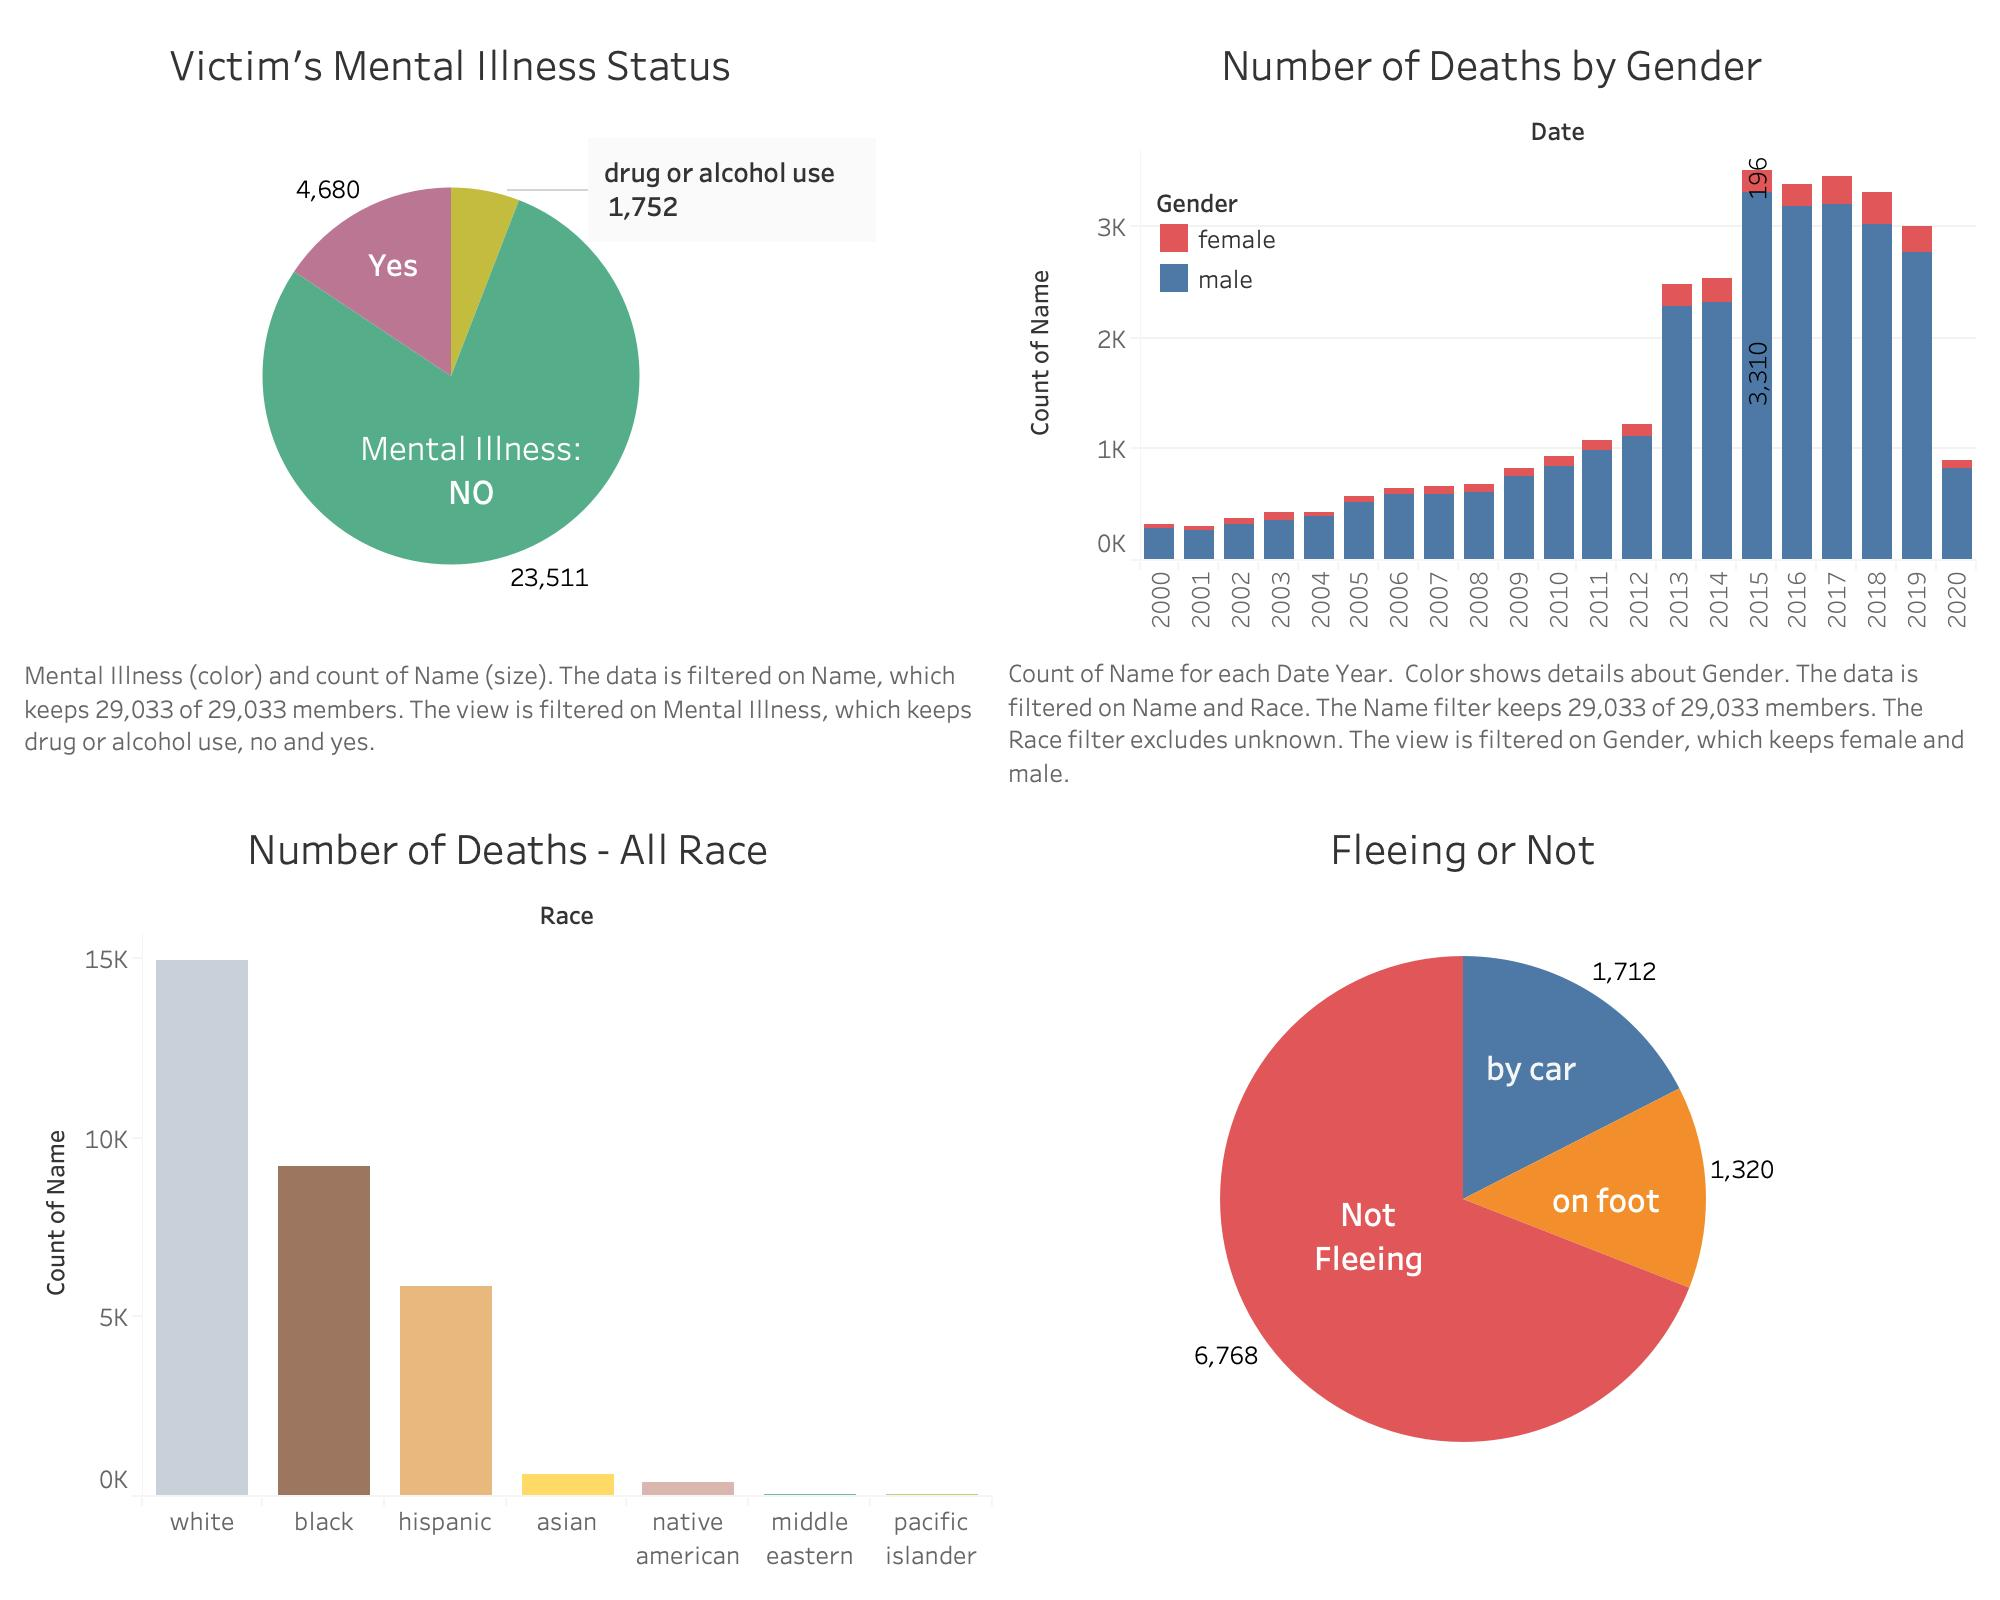

What the dashboard file says about the page in this screenshot:
{"tool":"tableau","page":{"name":"Dashboard 2","canvas":[1000,800],"ordinal":1},"visuals":[{"type":"worksheet","title":"Sheet 5","mark":"Pie","box":[8,8,492,392]},{"type":"worksheet","title":"Sheet 4","mark":"Bar","rows":["name"],"cols":["date"],"box":[500,8,492,392]},{"type":"legend","title":"Sheet 4","param":"[federated.15tnjfx0qnbfkw13dks4l1e908w0].[none:gender:nk]","box":[577,91,140,58]},{"type":"worksheet","title":"Sheet 3","mark":"Automatic","rows":["name"],"cols":["race"],"box":[8,400,492,392]},{"type":"worksheet","title":"Sheet 2","mark":"Pie","box":[500,400,492,392]}]}

Visuals, with their boxes in screenshot pixels (x1, y1, x2, y2), scaled from the page's 1000x800 canvas onto the 2000x1600 screenshot:
"Sheet 5" worksheet (Pie marks): (left=16, top=16, right=1000, bottom=800)
"Sheet 4" worksheet (Bar marks): (left=1000, top=16, right=1984, bottom=800)
"Sheet 4" legend: (left=1154, top=182, right=1434, bottom=298)
"Sheet 3" worksheet: (left=16, top=800, right=1000, bottom=1584)
"Sheet 2" worksheet (Pie marks): (left=1000, top=800, right=1984, bottom=1584)
